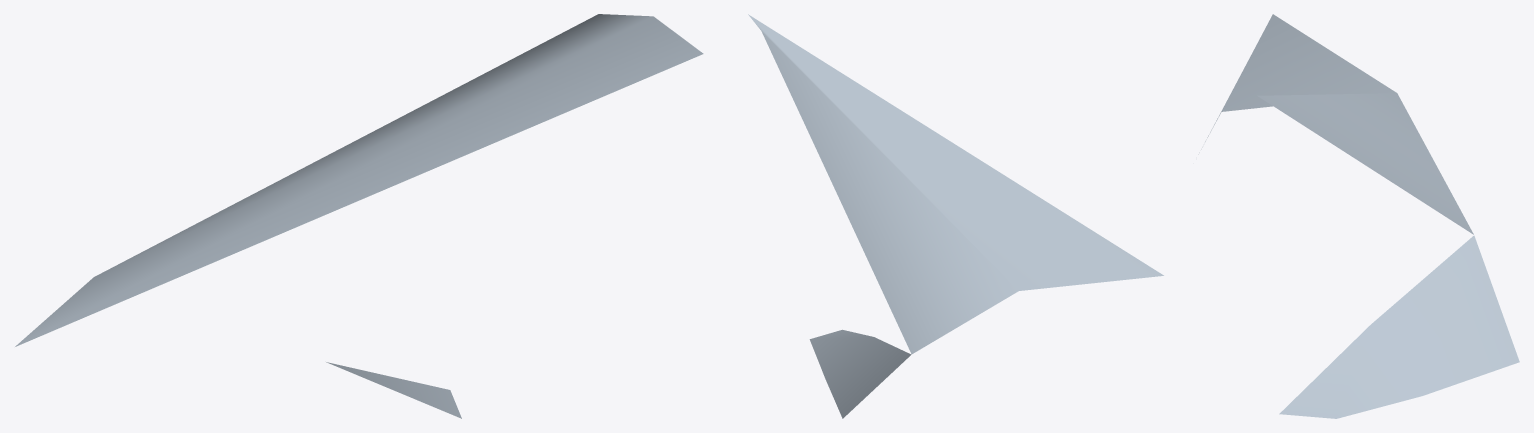
Rendered from iliolumbar-ligament-r.glb.
3 views of the same model, side by side, from view 1: azimuth 30°, elevation 25°; view 2: azimuth 150°, elevation 25°; view 3: azimuth 270°, elevation 25° (orthographic). The views are drawn at different scales.
Parts seen in each view (by area): view 1: Iliolumbar ligament.r; view 2: Iliolumbar ligament.r; view 3: Iliolumbar ligament.r.
Boxes of the visible parts, x1,y1,x2,y2 form: Iliolumbar ligament.r: (15,14,703,418); Iliolumbar ligament.r: (748,14,1163,418); Iliolumbar ligament.r: (1198,14,1519,418).
Bounding box in the file's own units: 0.0472 × 0.0272 × 0.0207.
